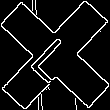L_NE: (26, 26, 84, 84)
